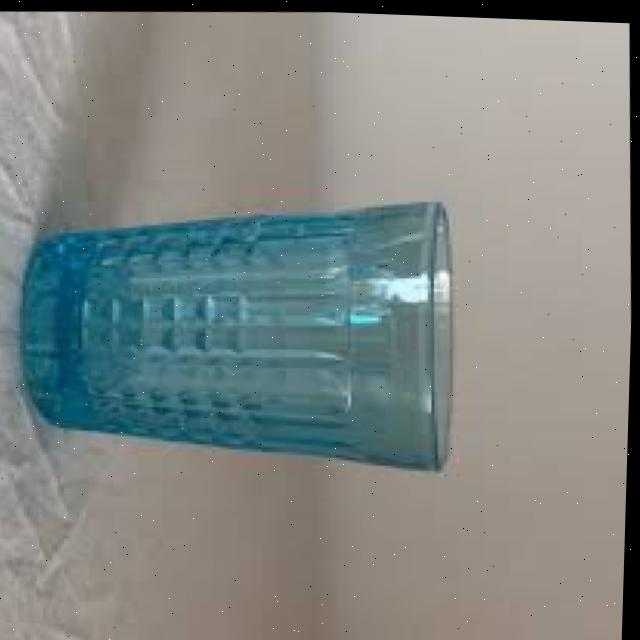Dry: (14, 182, 466, 484)
